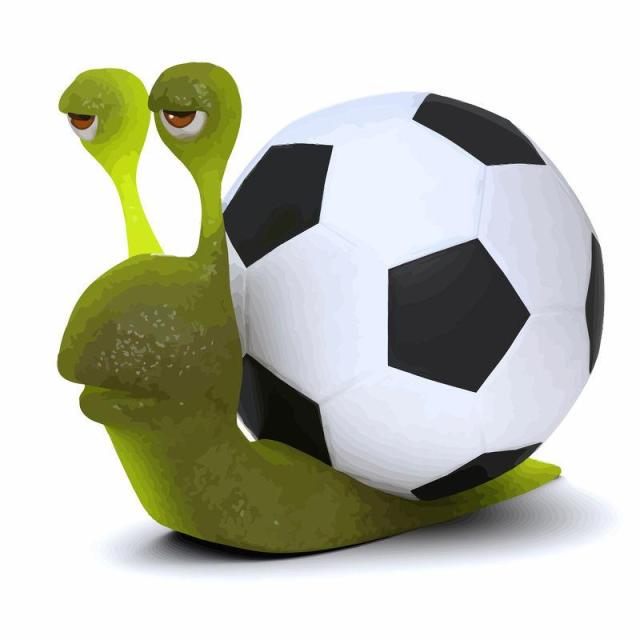Soccer Ball: (268, 140, 538, 430)
